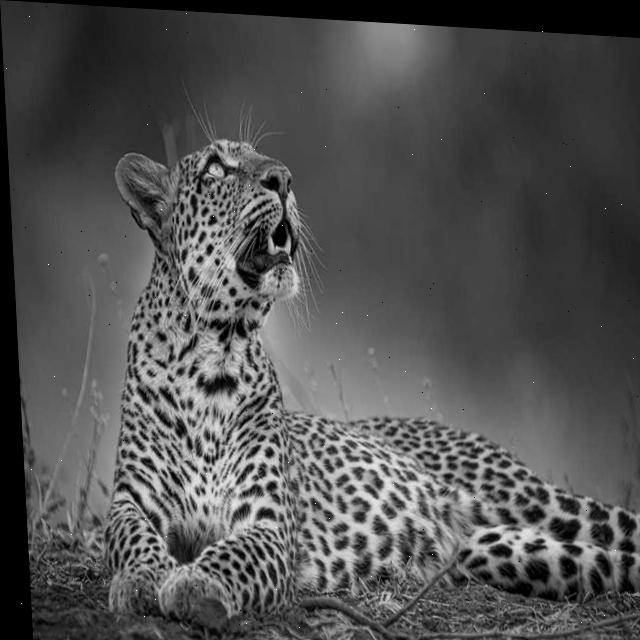Leopard: (75, 73, 640, 640)
